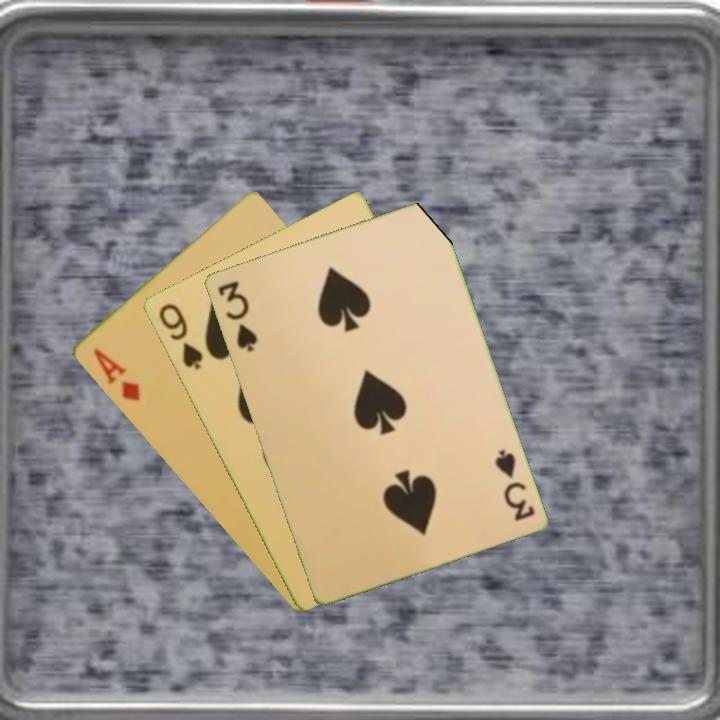3s: (491, 445, 537, 524), (214, 277, 260, 354)
9s: (154, 299, 206, 373)
Ad: (88, 345, 143, 405)
